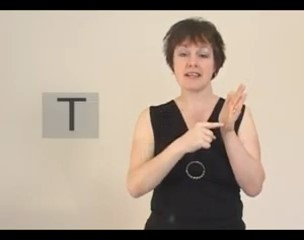T: (175, 81, 250, 155)
